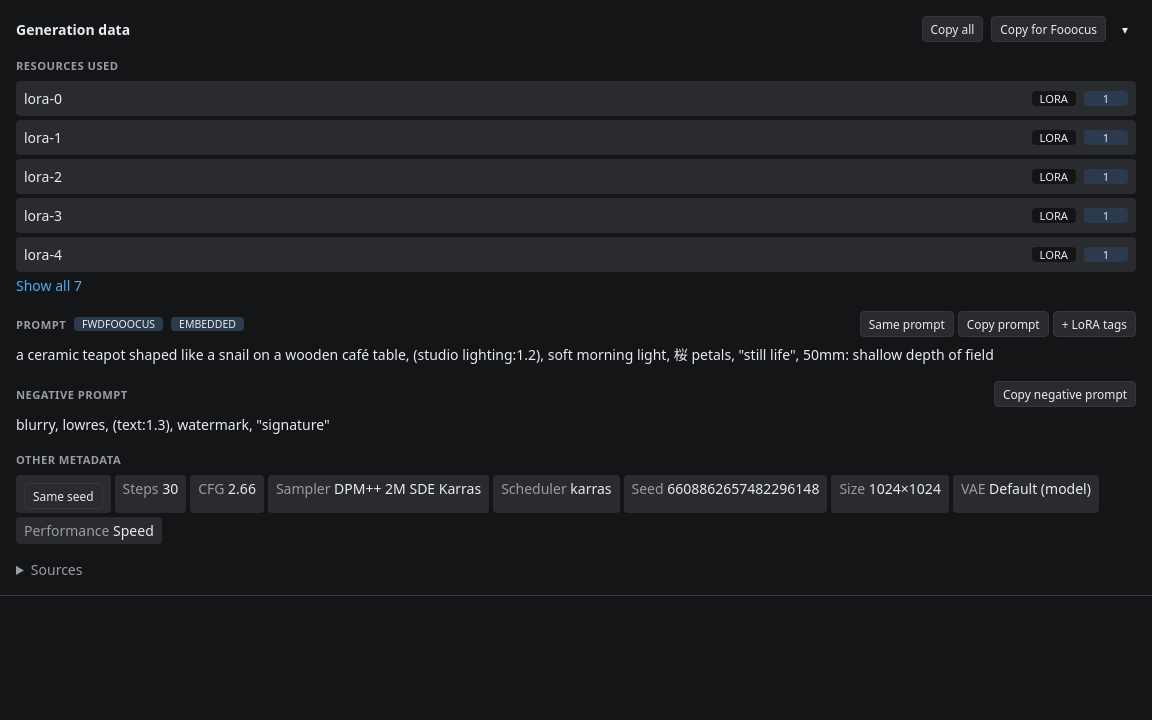
Scenario: GenerationPanel › shows at most five resources until asked for all
This screenshot has width=1152, height=720.
Expected: the text "lora-5" is not shown
What coordinates should you click on to do the following:
click the button "Show all 7"
I would click on:
 (49, 286)
Its box is [16,276,82,295].
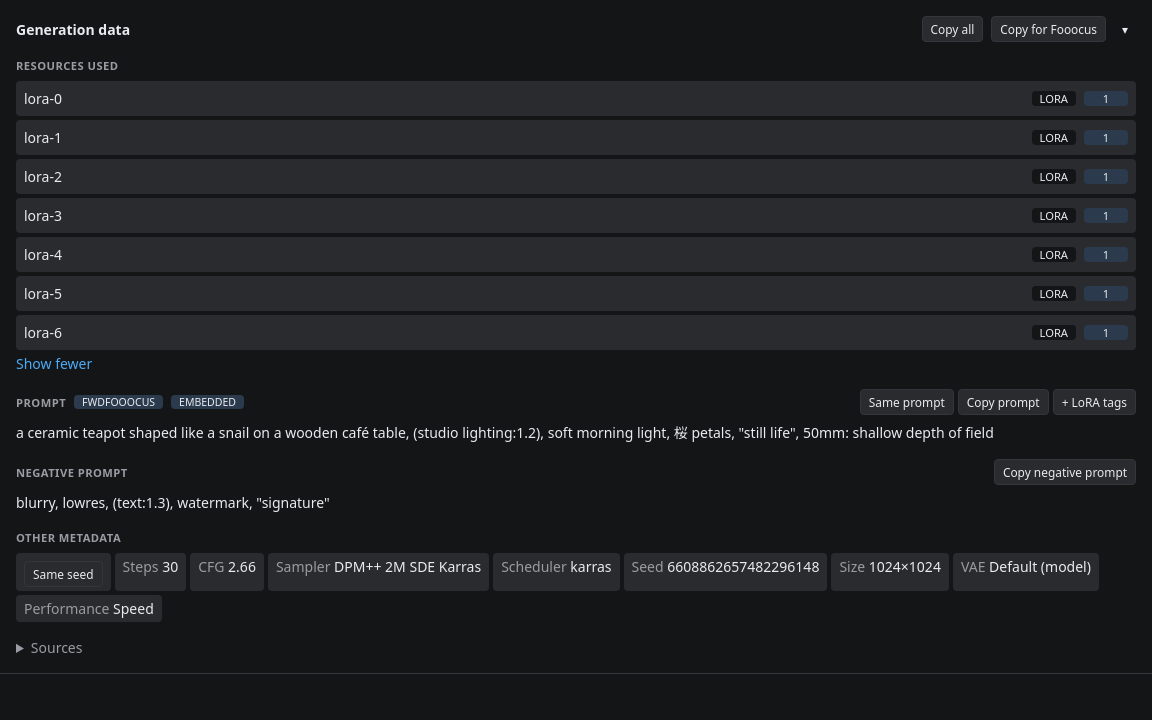
Expected: the button "lora-6" is shown, [24,323,1024,342]
